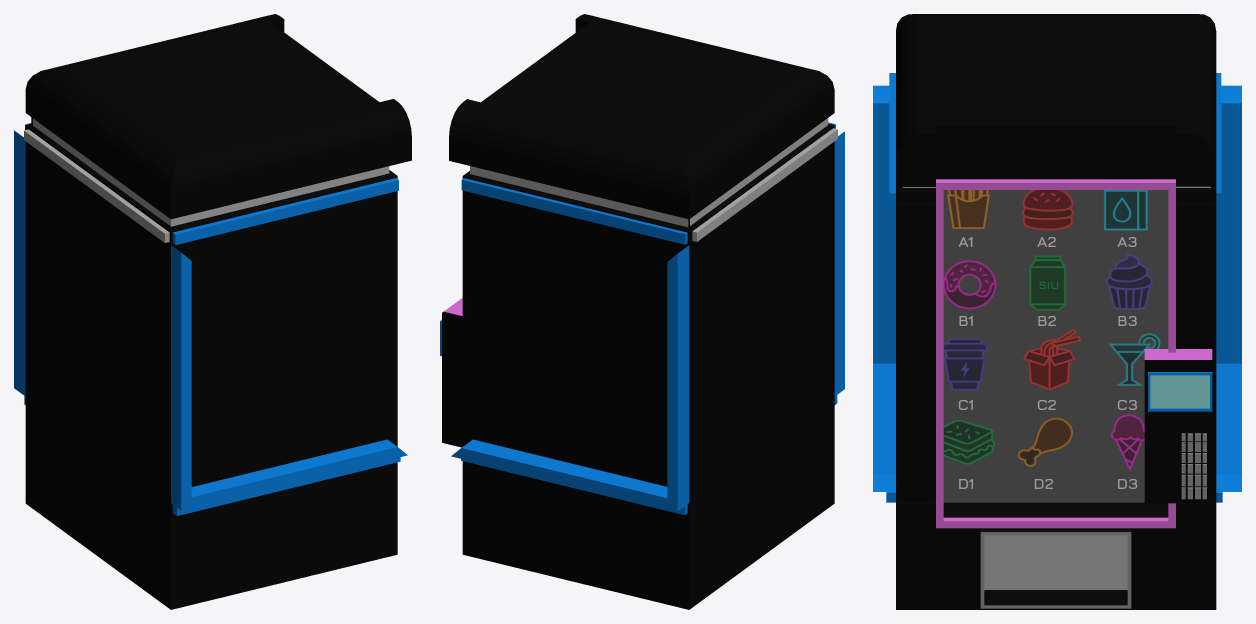
Rendered from Maquina 1.fbx.
3 renders of one model, left to right at view 1: azimuth 30°, elevation 25°; view 2: azimuth 150°, elevation 25°; view 3: azimuth 270°, elevation 25°, orthographic. The views are drawn at different scales.
Visible parts, largest first — view 1: Cube.002; view 2: Cube.002; view 3: Cube.002.
Boxes of the visible parts, x1=… form: Cube.002: x1=14, y1=14, x2=411, y2=609; Cube.002: x1=440, y1=14, x2=844, y2=609; Cube.002: x1=873, y1=14, x2=1241, y2=609.
Bounding box in the file's own units: 135 × 222 × 154.
Materials: 8 (1 with a texture image).
